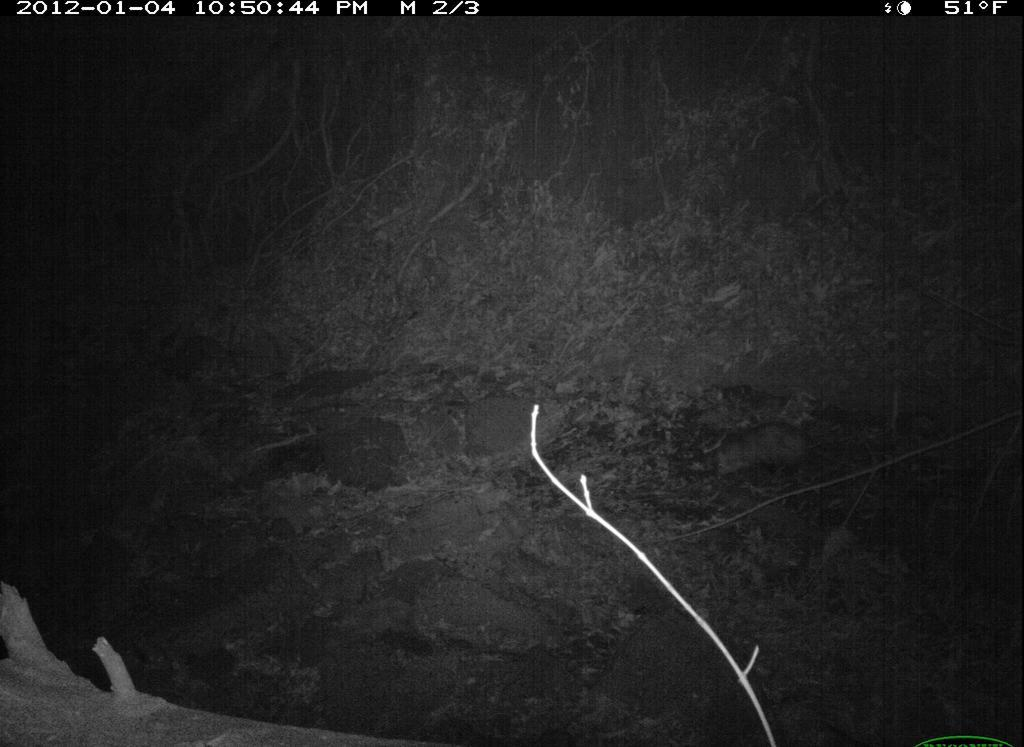opossum: (699, 415, 850, 488)
